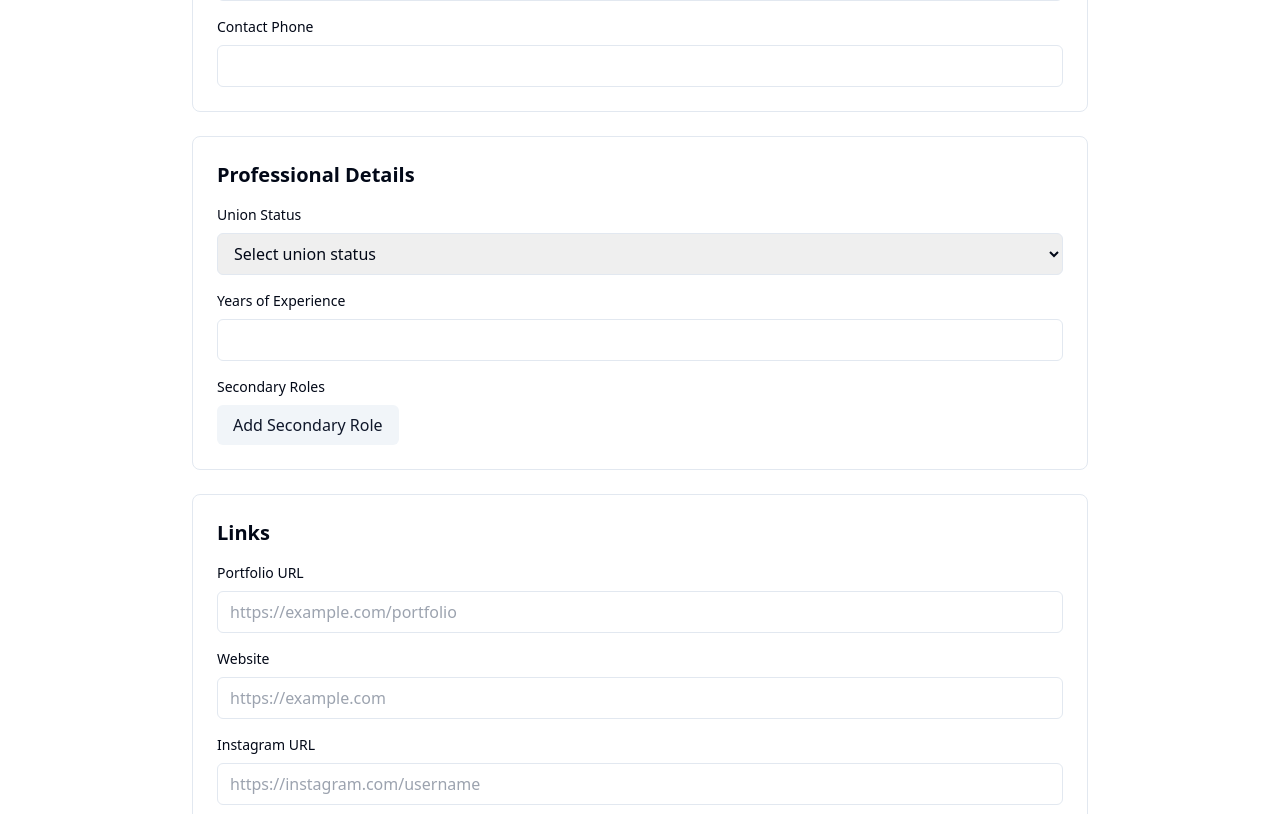
Test: ProfileEditForm › should allow adding secondary roles
(page scrolled)
Click the button "Add Secondary Role". click: (308, 425)
box: [217,405,399,445]
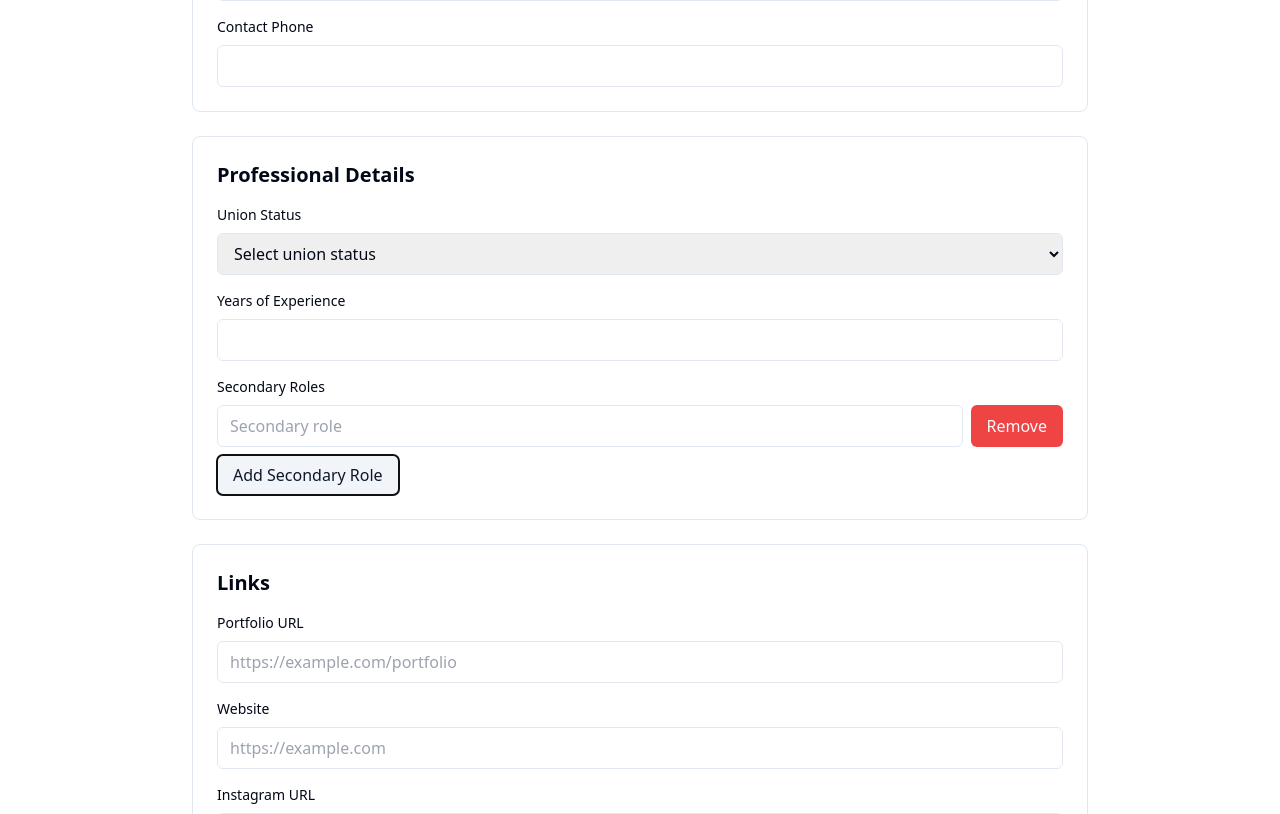
expect the field with placeholder "Secondary role" is shown: met, box [217,405,962,447]
